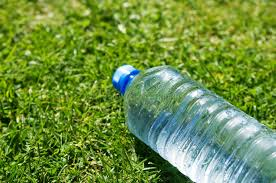plastic_bottle: (114, 63, 276, 183)
